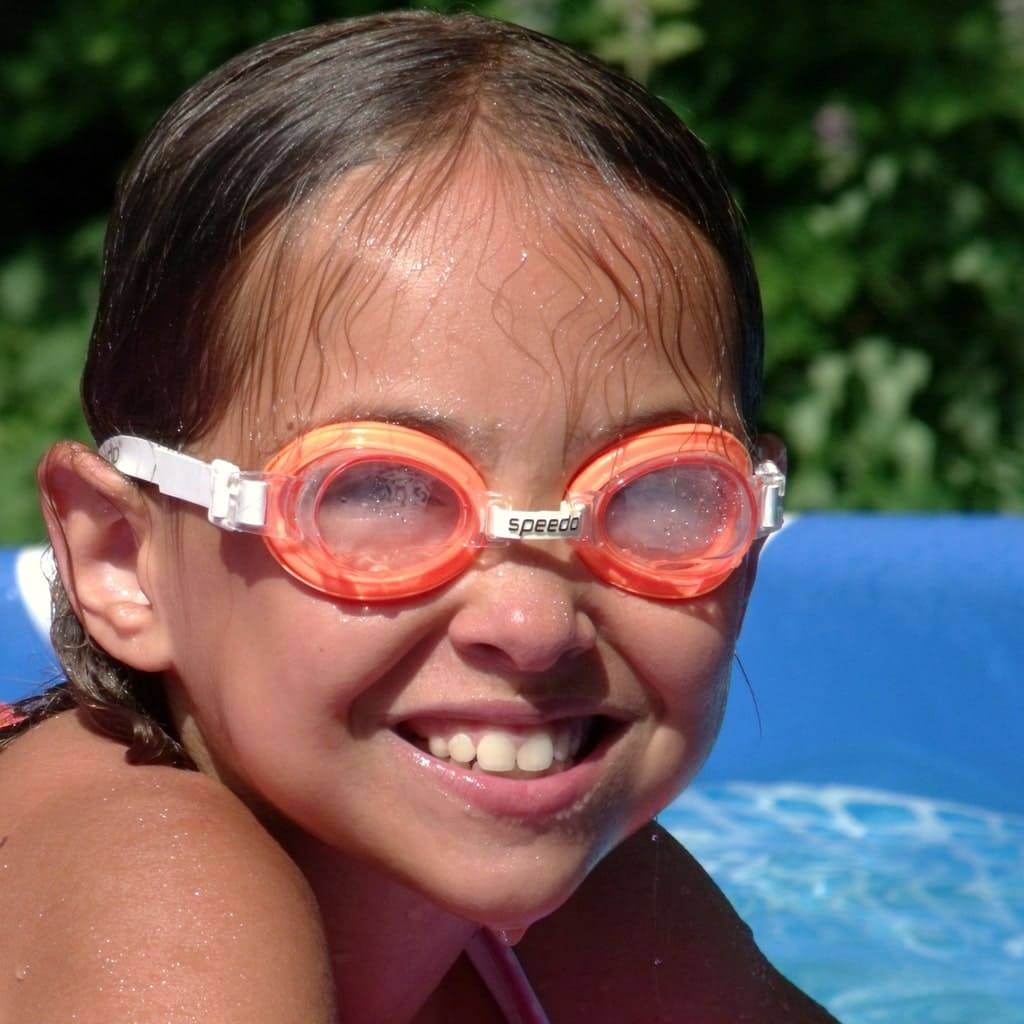without_mask: (200, 164, 747, 873)
